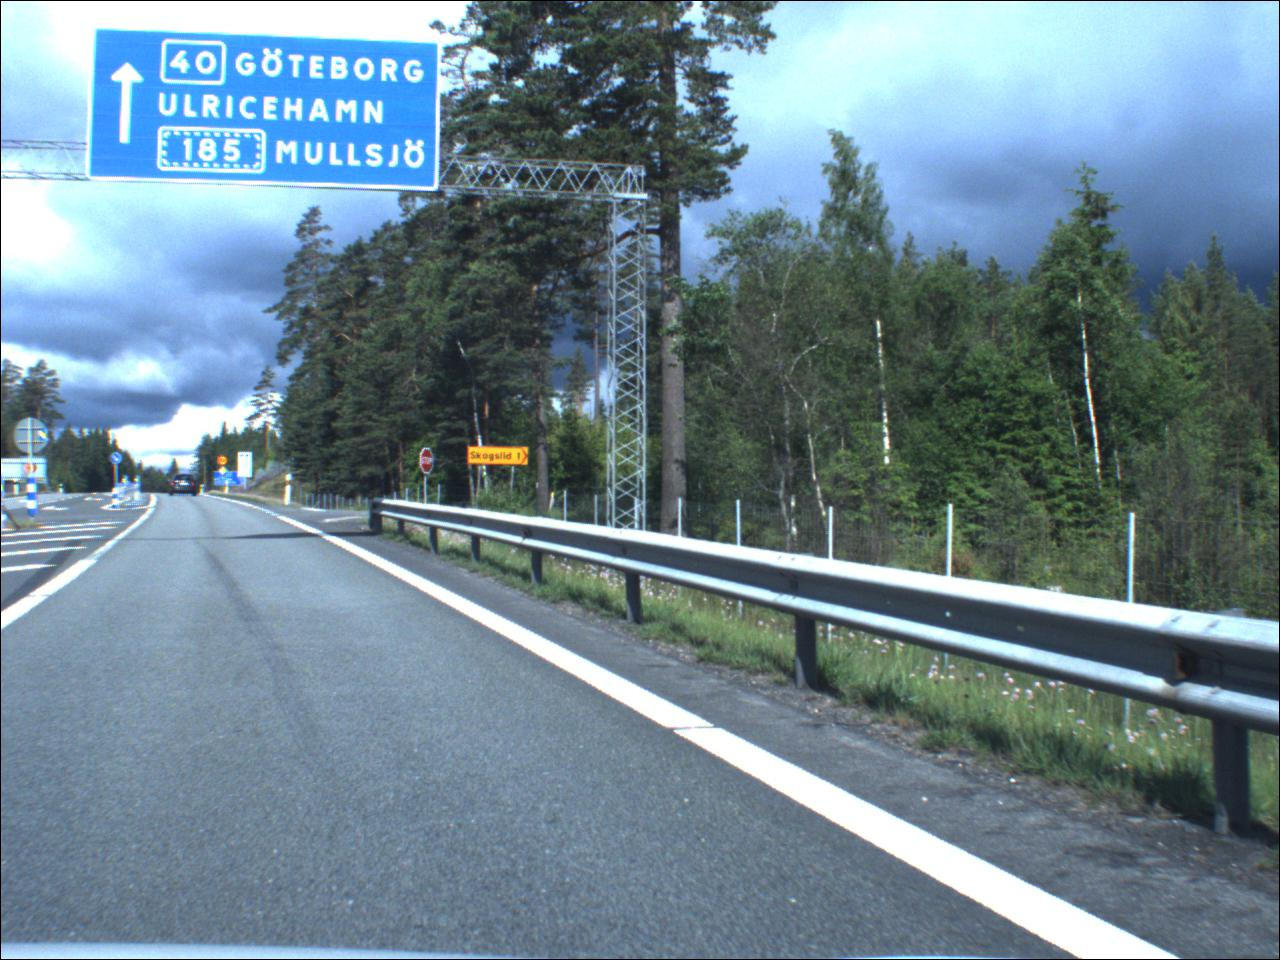100_SIGN: (219, 457, 231, 469), (26, 464, 39, 475)
PASS_RIGHT_SIDE: (110, 453, 125, 468)
PRIORITY_ROAD: (221, 468, 230, 478)
STOP: (422, 449, 438, 475)
